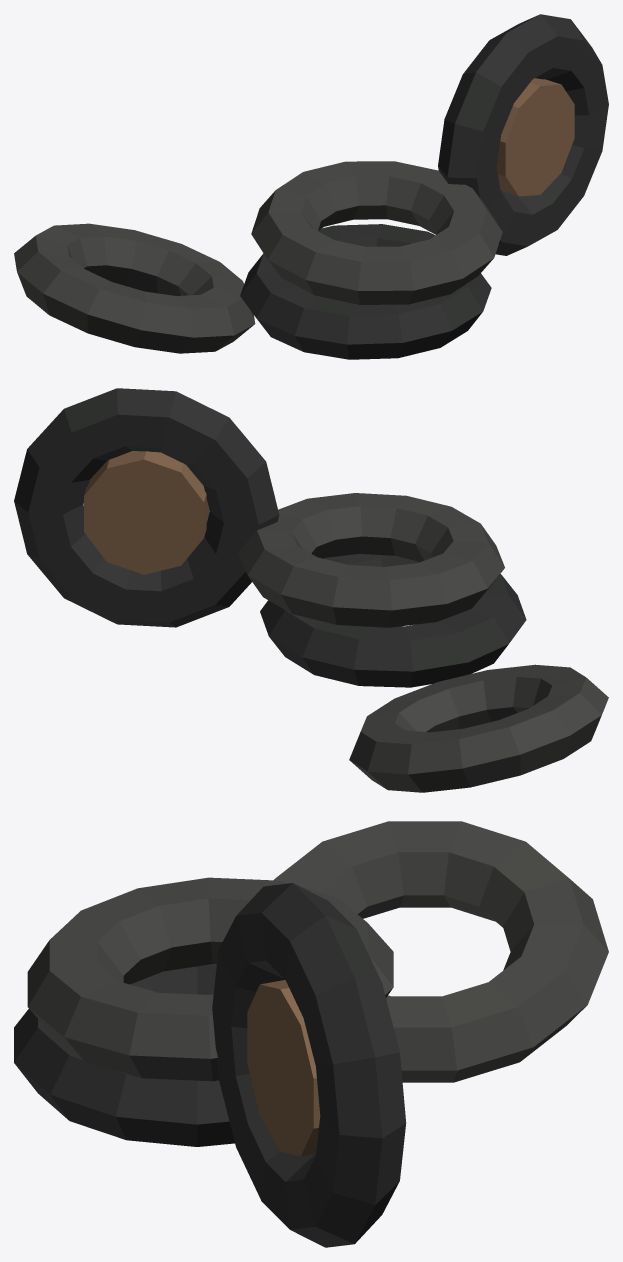
The model's file is litter_tires.glb.
The picture shows the model from 3 angles, top to bottom: view 1: azimuth 30°, elevation 25°; view 2: azimuth 150°, elevation 25°; view 3: azimuth 270°, elevation 25°; orthographic projection. The views are drawn at different scales.
Parts seen in each view (by area): view 1: litter_tires; view 2: litter_tires; view 3: litter_tires.
Part boxes in pixels (x1,y1,x2,y2): litter_tires: (14,14,608,359); litter_tires: (14,388,608,792); litter_tires: (14,821,608,1247).
Bounding box in the file's own units: 2.13 × 0.9332 × 1.33.
